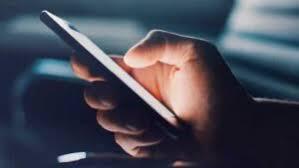Hand: (70, 29, 256, 164)
Smartphone: (40, 11, 189, 137)
